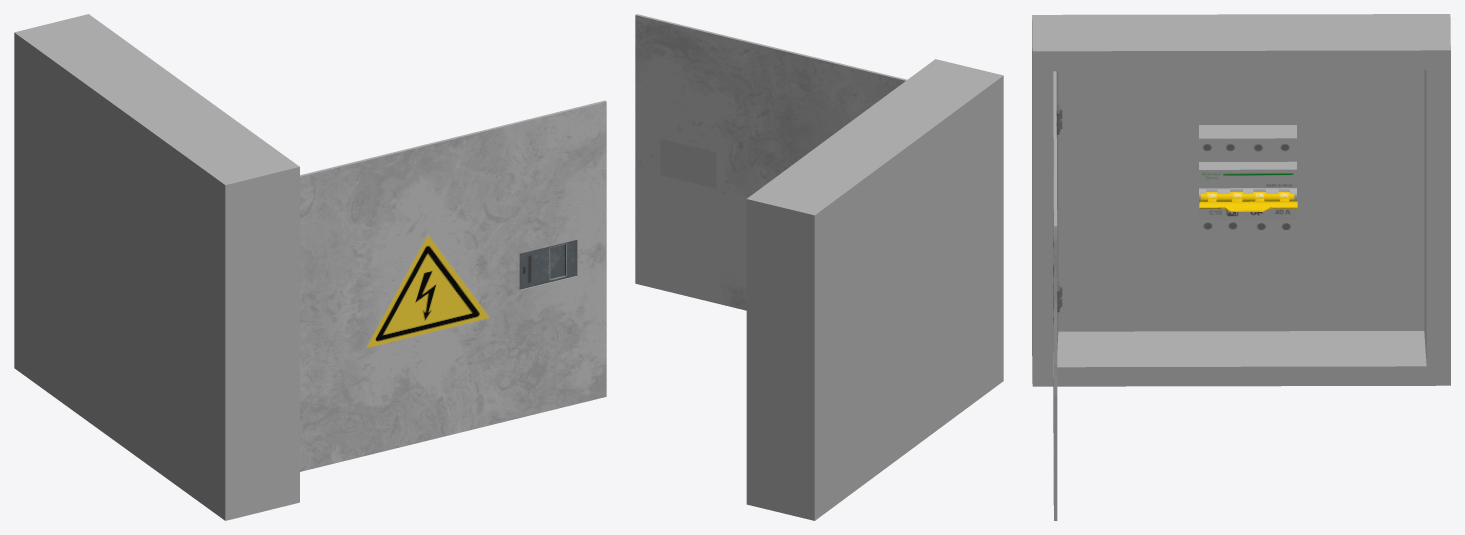
File: breaker.glb
3 renders of one model, left to right at view 1: azimuth 30°, elevation 25°; view 2: azimuth 150°, elevation 25°; view 3: azimuth 270°, elevation 25°, orthographic. The views are drawn at different scales.
Parts seen in each view (by area): view 1: Cube, Cube.003; view 2: Cube, Cube.003; view 3: Cube, Cube.002, Cube.003, Cylinder.001.
Part boxes in pixels (x1,y1,x2,y2): Cube: (14,14,299,520); Cube.003: (300,100,606,471); Cube: (746,59,1003,520); Cube.003: (635,14,906,310); Cube: (1032,14,1450,386); Cube.002: (1199,125,1297,236); Cube.003: (1053,71,1057,520); Cylinder.001: (1199,192,1297,211).
Bounding box in the file's own units: 1.08 × 0.883 × 0.9993.
Materials: 2 (2 with a texture image).
